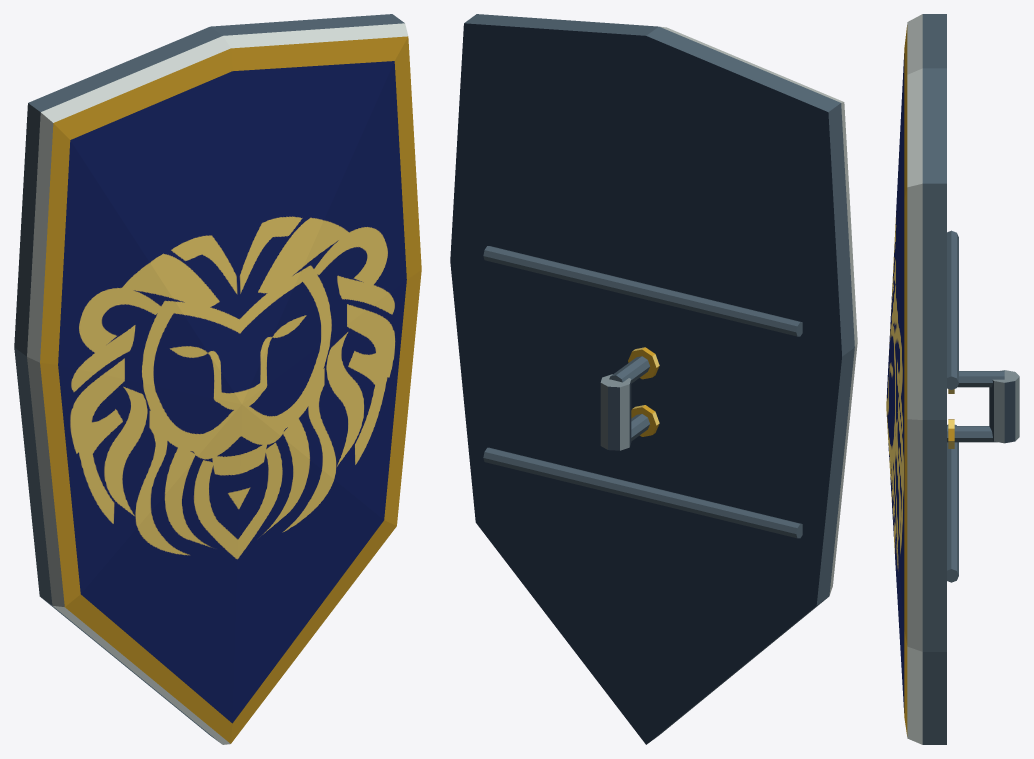
File: knight-wall-shield.glb
3 renders of one model, left to right at view 1: azimuth 30°, elevation 25°; view 2: azimuth 150°, elevation 25°; view 3: azimuth 270°, elevation 25°, orthographic. The views are drawn at different scales.
Parts seen in each view (by area): view 1: Weapon_Pistol_Geometry; view 2: Weapon_Pistol_Geometry; view 3: Weapon_Pistol_Geometry.
Boxes of the visible parts, x1=… form: Weapon_Pistol_Geometry: x1=14, y1=14, x2=421, y2=744; Weapon_Pistol_Geometry: x1=450, y1=14, x2=857, y2=744; Weapon_Pistol_Geometry: x1=886, y1=14, x2=1019, y2=744.
Size of the model in its own units: 1.42 by 2.46 by 0.44.
Materials: 8 (1 with a texture image).
